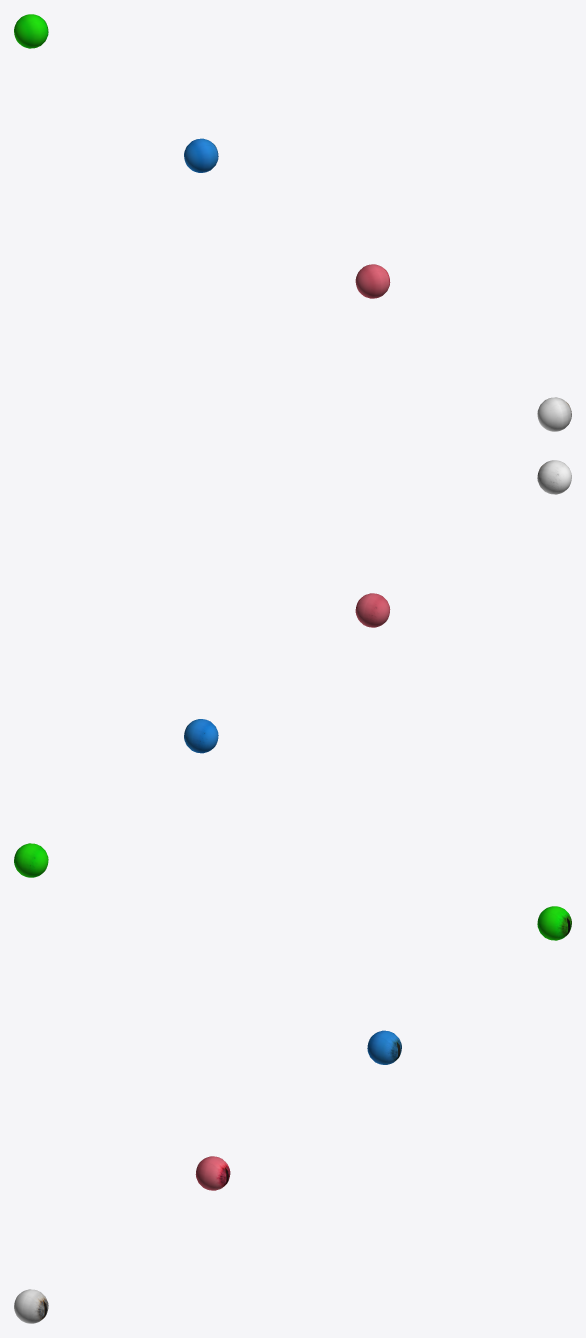
File: PI_013_kagi_01_01.fbx
The picture shows the model from 3 angles, top to bottom: view 1: azimuth 30°, elevation 25°; view 2: azimuth 150°, elevation 25°; view 3: azimuth 330°, elevation 25°; orthographic projection.
Visible parts, largest first — view 1: Sphere001, Sphere002, Sphere004, Sphere003; view 2: Sphere001, Sphere002, Sphere004, Sphere003; view 3: Sphere001, Sphere002, Sphere004, Sphere003.
Boxes of the visible parts, x1,y1,x2,y2 form: Sphere001: (184, 138, 218, 172); Sphere002: (14, 14, 48, 48); Sphere004: (537, 397, 571, 431); Sphere003: (355, 264, 390, 298); Sphere001: (184, 719, 218, 753); Sphere002: (14, 843, 48, 877); Sphere004: (537, 460, 571, 494); Sphere003: (355, 593, 390, 627); Sphere001: (367, 1030, 401, 1064); Sphere002: (537, 906, 571, 940); Sphere004: (14, 1289, 48, 1323); Sphere003: (195, 1156, 230, 1190).
Bounding box in the file's own units: 4.27 × 4.27 × 133.
